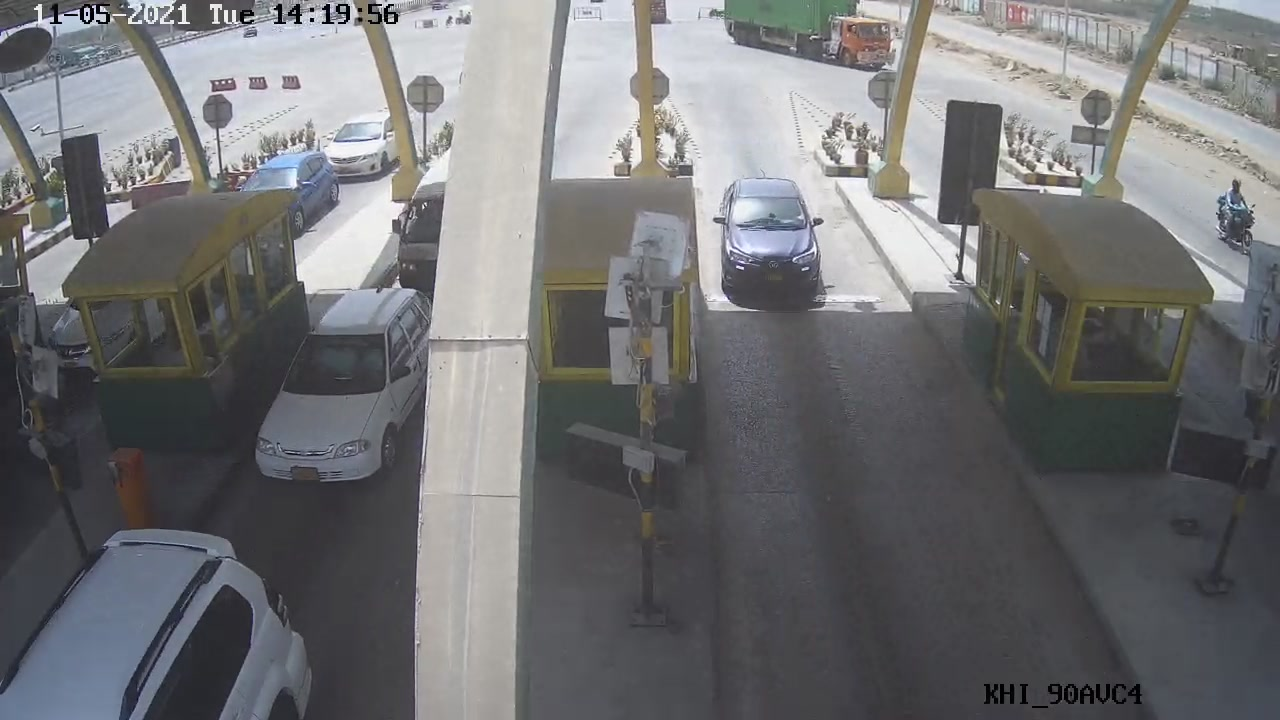F1: (713, 166, 832, 314)
